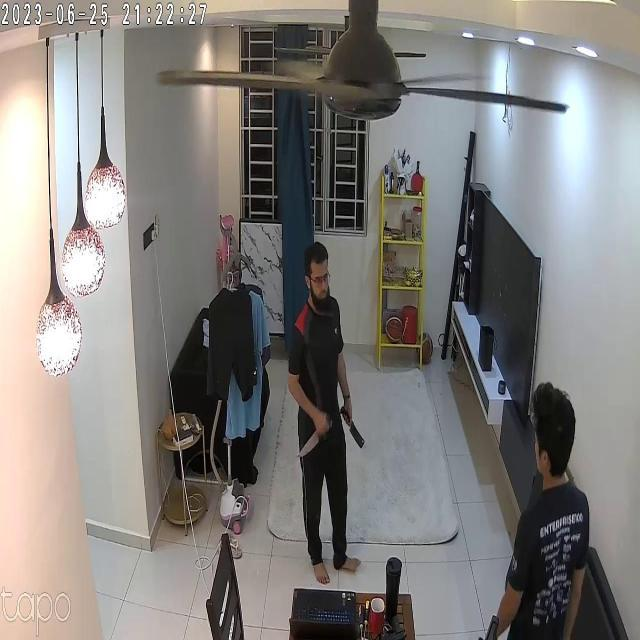Knife: (345, 397, 376, 450), (294, 420, 330, 462)
